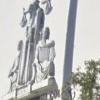Statue: (7, 2, 62, 91)
